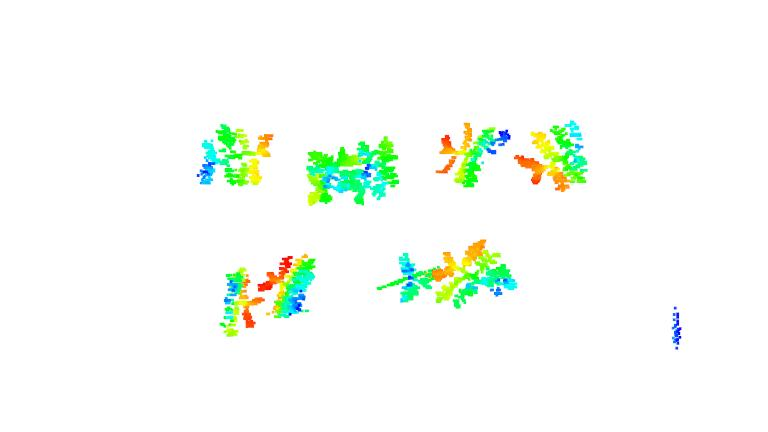chickpea: (306, 133, 399, 204), (515, 117, 594, 196), (434, 236, 520, 308), (196, 122, 276, 190), (438, 120, 506, 190), (258, 255, 318, 320), (219, 265, 260, 340), (383, 249, 437, 300)
